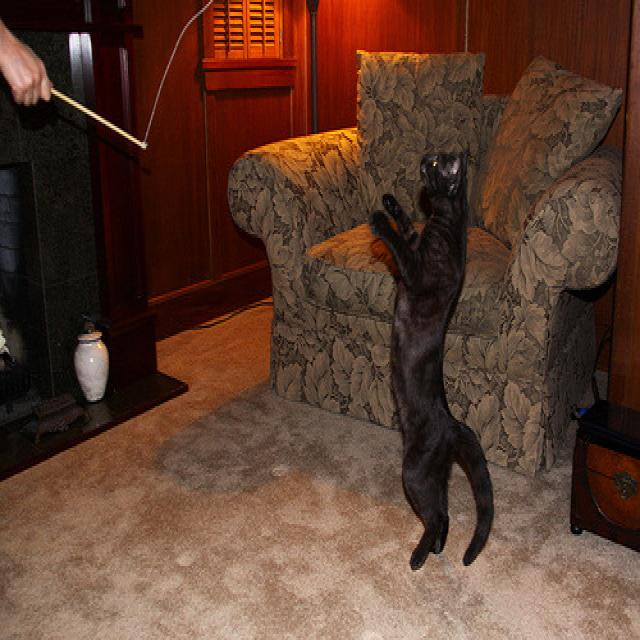cat: (348, 134, 525, 587)
